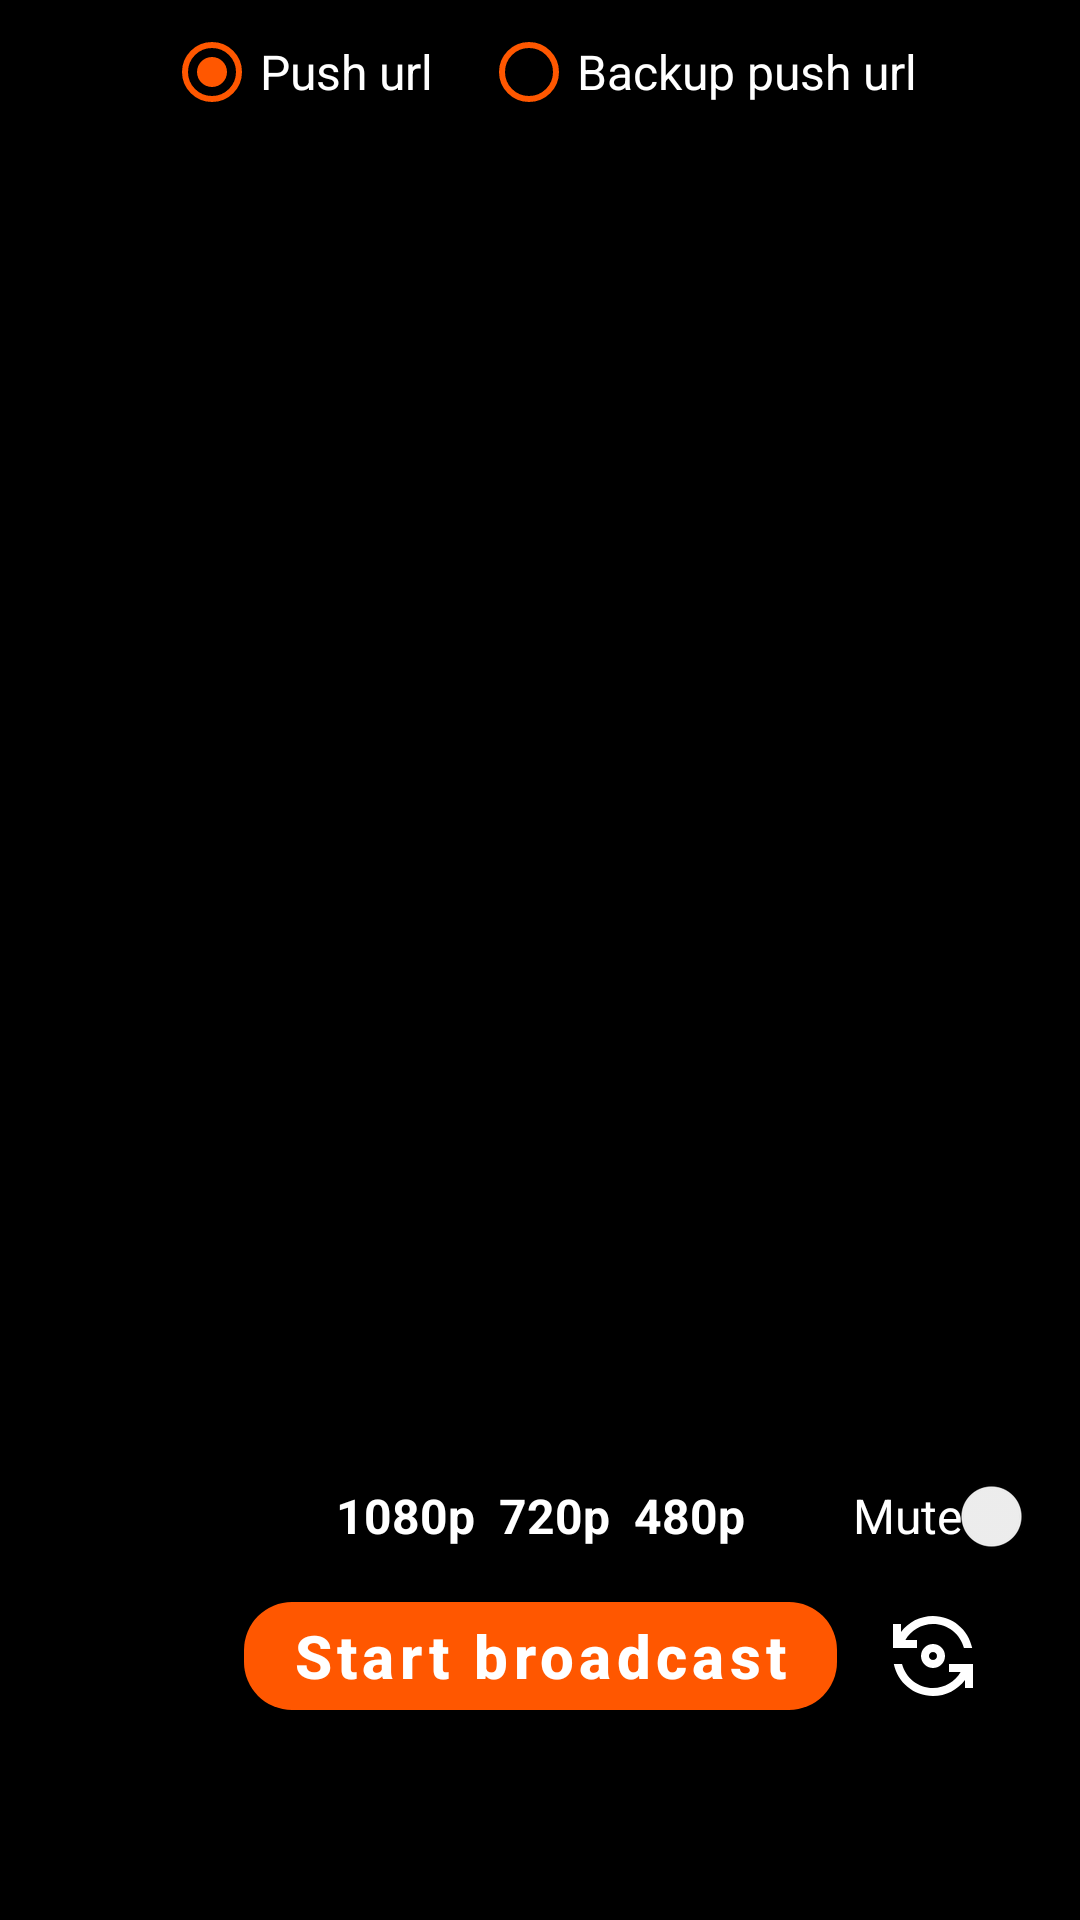

Screen size 1080 x 1920. Icon name, then its box in pixels as {"x1": x1, "y1": y1, "x2": x2, "y2": y2}:
Switch camera: {"x1": 893, "y1": 1616, "x2": 973, "y2": 1696}
